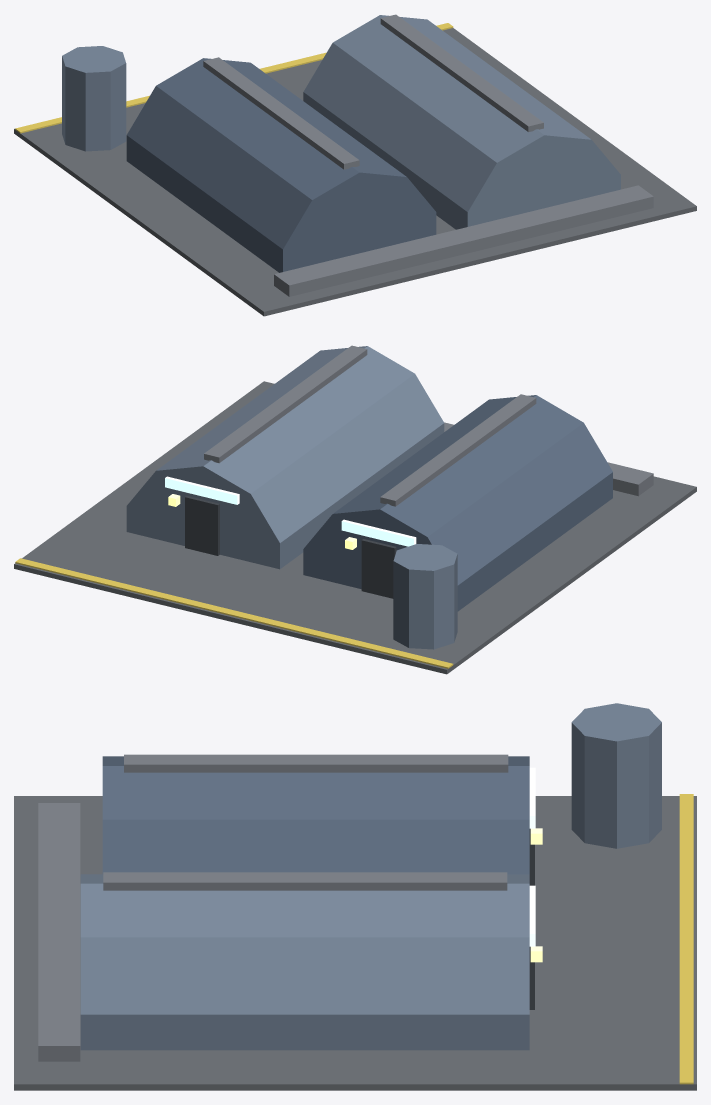
Rendered from zone_low_3.glb.
The picture shows the model from 3 angles, top to bottom: view 1: azimuth 30°, elevation 25°; view 2: azimuth 150°, elevation 25°; view 3: azimuth 270°, elevation 25°; orthographic projection. The views are drawn at different scales.
Parts seen in each view (by area): view 1: zone_low_3, detail; view 2: zone_low_3, detail; view 3: zone_low_3, detail.
Boxes of the visible parts, box(x1,y1,x2,y2) form: zone_low_3: box(14, 14, 696, 316); detail: box(15, 23, 453, 133); zone_low_3: box(14, 345, 696, 674); detail: box(15, 494, 453, 668); zone_low_3: box(14, 703, 696, 1090); detail: box(530, 794, 693, 1084).
Size of the model in its own units: 19.6 by 4.05 by 19.6.
